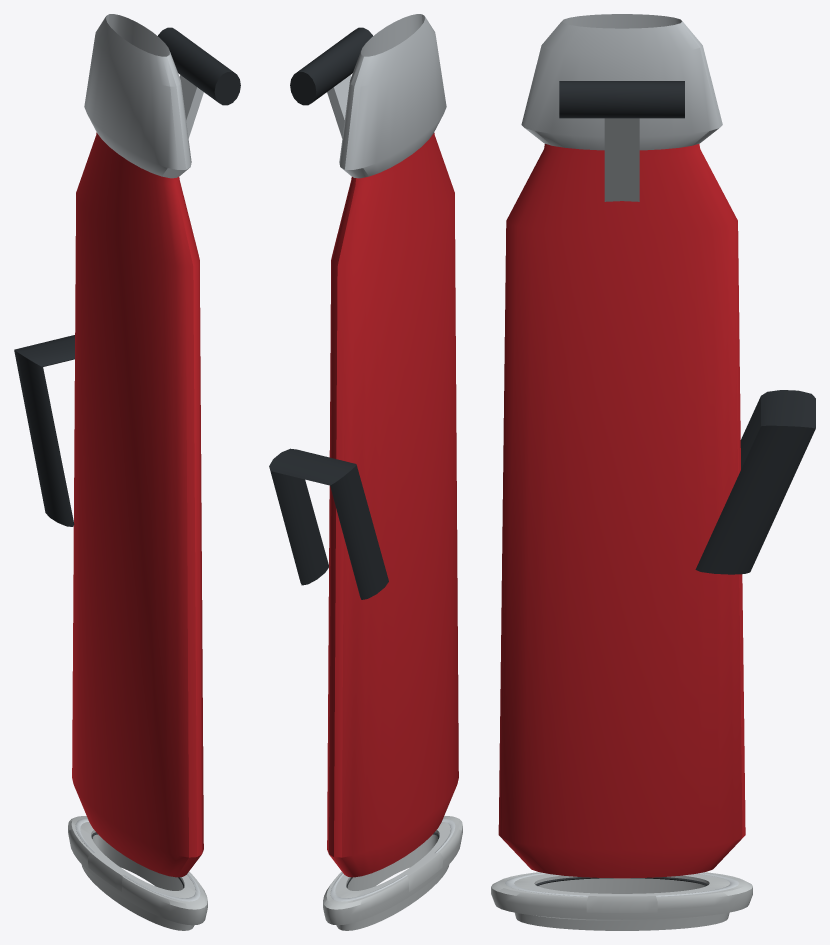
File: ob_red_long_nozzle.glb
The picture shows the model from 3 angles, left to right: view 1: azimuth 30°, elevation 25°; view 2: azimuth 150°, elevation 25°; view 3: azimuth 270°, elevation 25°; orthographic projection. The views are drawn at different scales.
Parts seen in each view (by area): view 1: ob_red_long_nozzle; view 2: ob_red_long_nozzle; view 3: ob_red_long_nozzle.
Part boxes in pixels (bbox=[...]): ob_red_long_nozzle: bbox=[14, 14, 240, 930]; ob_red_long_nozzle: bbox=[269, 14, 462, 930]; ob_red_long_nozzle: bbox=[491, 14, 815, 930].
Bounding box in the file's own units: 0.17 × 1.28 × 0.42.
